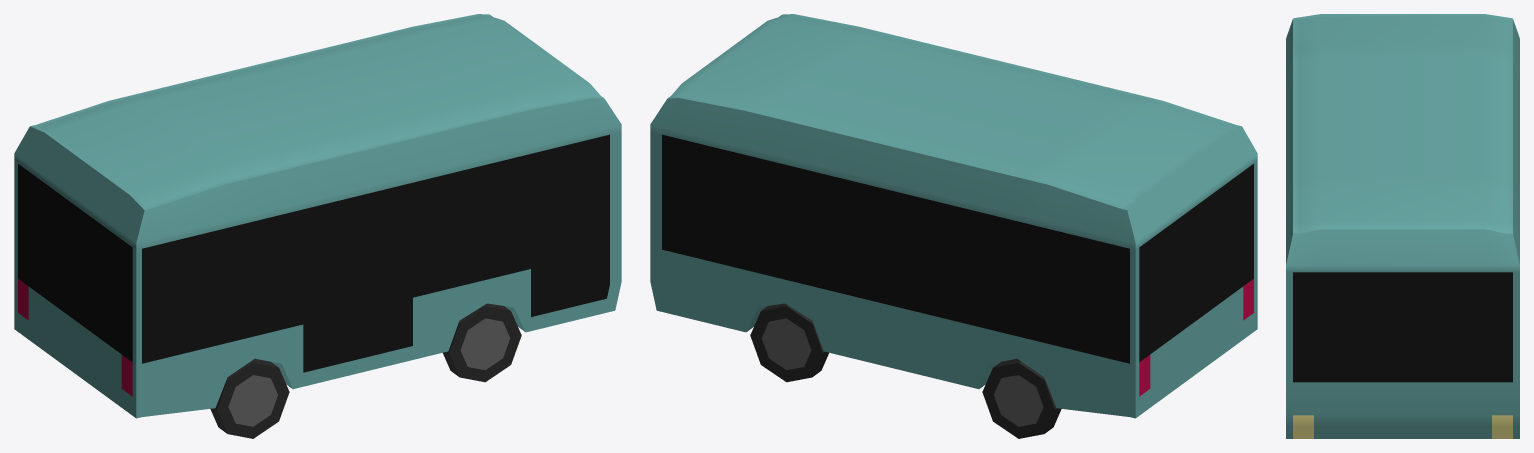
File: Bus_01.fbx
3 views of the same model, side by side, from view 1: azimuth 30°, elevation 25°; view 2: azimuth 150°, elevation 25°; view 3: azimuth 270°, elevation 25° (orthographic). The views are drawn at different scales.
Visible parts, largest first — view 1: Bus_01; view 2: Bus_01; view 3: Bus_01.
Boxes of the visible parts, <box> form: Bus_01: <box>14,14,621,438</box>; Bus_01: <box>650,14,1257,438</box>; Bus_01: <box>1286,14,1519,438</box>.
Bounding box in the file's own units: 500 × 260 × 218.
Materials: 1 (1 with a texture image).
